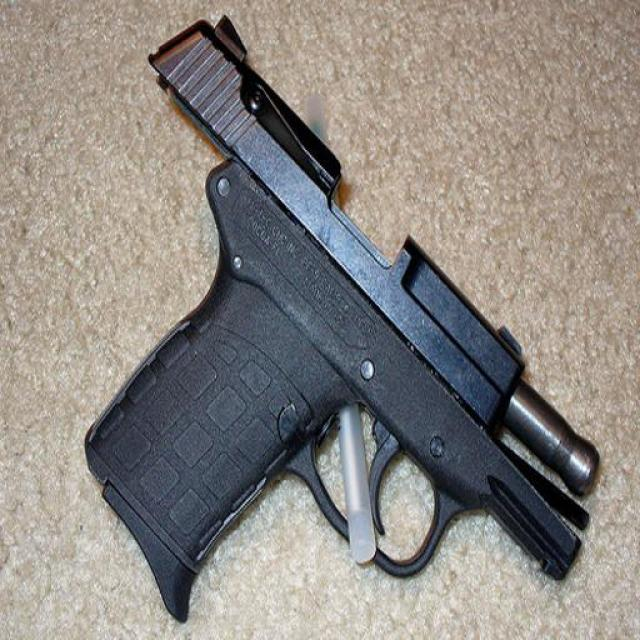pistol: (70, 15, 600, 610)
